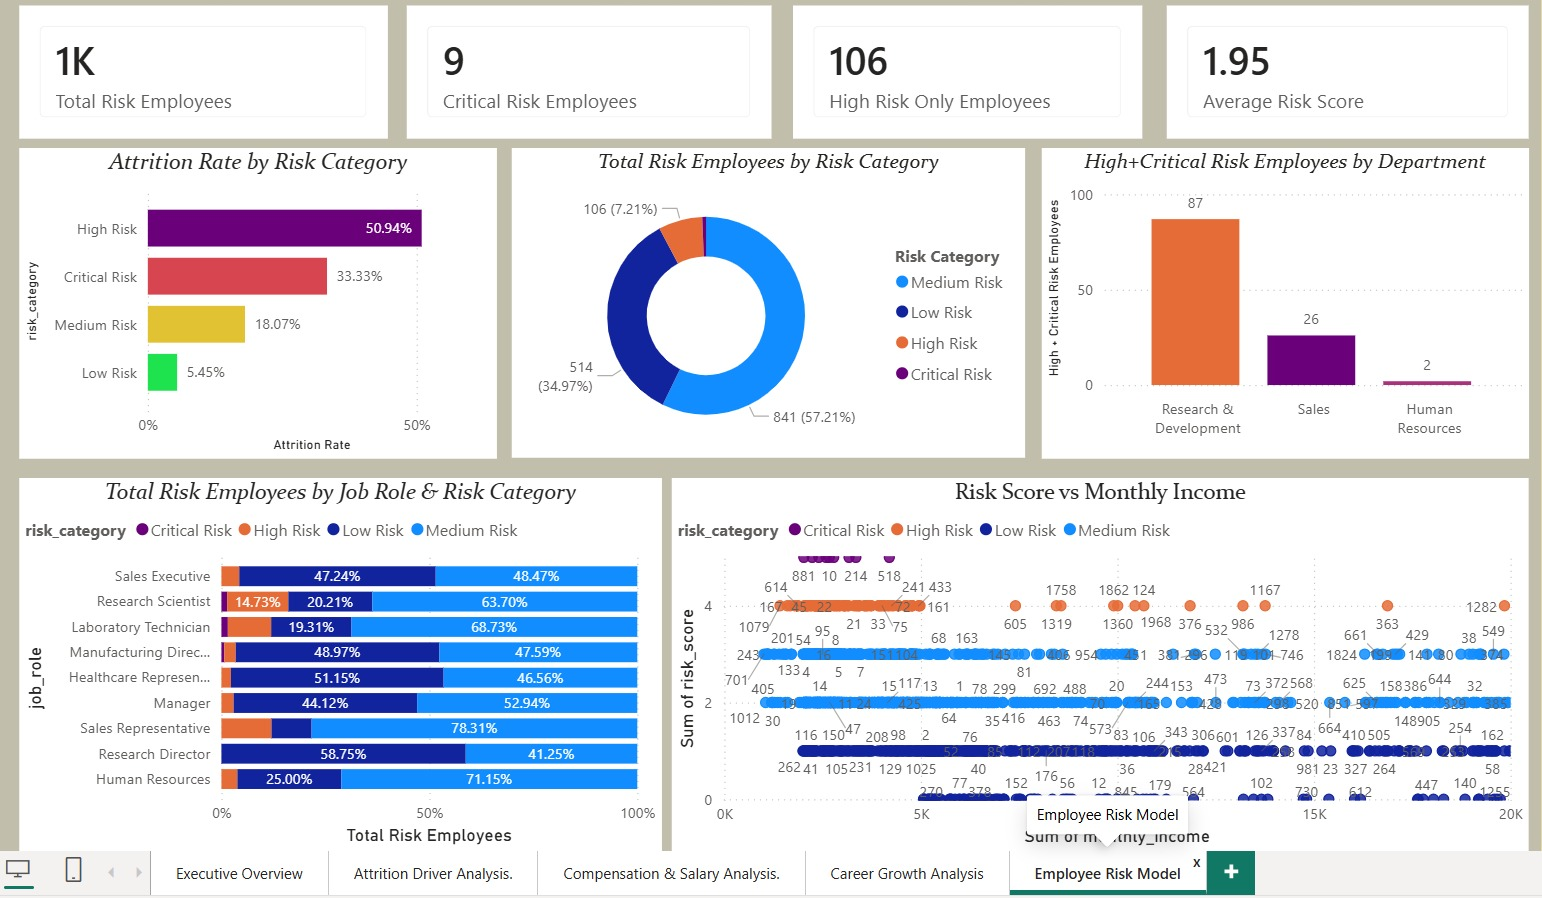

This screenshot's page, from the dashboard's own definition file:
{"tool":"powerbi","page":{"name":"Employee Risk Model","canvas":[1280,720],"ordinal":4},"visuals":[{"type":"cardVisual","fields":{"Data":["public employee_attrition_risk.Total Risk Employees"]},"box":[17.4,18.6,305.8,110.5],"z":0},{"type":"cardVisual","fields":{"Data":["public employee_attrition_risk.Critical Risk Employees"]},"box":[338.4,18.6,302.3,110.5],"z":1000},{"type":"cardVisual","fields":{"Data":["public employee_attrition_risk.High Risk Only Employees"]},"box":[659.3,18.6,289.5,110.5],"z":2000},{"type":"cardVisual","fields":{"Data":["public employee_attrition_risk.Average Risk Score"]},"box":[968.6,18.6,300,110.5],"z":3000},{"type":"clusteredBarChart","title":"Attrition Rate by Risk Category","fields":{"Category":["public employee_attrition_risk.risk_category"],"Y":["public employees.Attrition Rate"]},"box":[17.9,136.6,396.3,257.5],"z":4000},{"type":"donutChart","title":"Total Risk Employees by Risk Category","fields":{"Category":["public employee_attrition_risk.risk_category"],"Y":["public employee_attrition_risk.Total Risk Employees"]},"box":[425.6,137.2,425.6,257],"z":5000},{"type":"clusteredColumnChart","title":"High+Critical Risk Employees by Department","fields":{"Category":["public employee_attrition_risk.department"],"Y":["public employee_attrition_risk.High + Critical Risk Employees"]},"box":[865,136.6,403.6,257.5],"z":6000},{"type":"hundredPercentStackedBarChart","title":"Total Risk Employees by Job Role & Risk Category","fields":{"Category":["public employee_attrition_risk.job_role"],"Y":["public employee_attrition_risk.Total Risk Employees"],"Series":["public employee_attrition_risk.risk_category"]},"box":[17.4,410.5,532.6,309.3],"z":7000},{"type":"scatterChart","title":"Risk Score vs Monthly Income","fields":{"X":["Sum(public employee_attrition_risk.monthly_income)"],"Y":["Sum(public employee_attrition_risk.risk_score)"],"Series":["public employee_attrition_risk.risk_category"],"Category":["public employee_attrition_risk.employee_number"]},"box":[558.1,409.9,710.5,310.1],"z":8000}]}

Visuals, with their boxes on the page's 1280x720 design canvas (x1, y1, x2, y2). These are canvas units, not pixel positions in the 1542x898 screenshot, which may show the page scaled, cropped or inside an application window:
cardVisual - public employee_attrition_risk.Total Risk Employees: select_region(17, 19, 323, 129)
cardVisual - public employee_attrition_risk.Critical Risk Employees: select_region(338, 19, 641, 129)
cardVisual - public employee_attrition_risk.High Risk Only Employees: select_region(659, 19, 949, 129)
cardVisual - public employee_attrition_risk.Average Risk Score: select_region(969, 19, 1269, 129)
"Attrition Rate by Risk Category" clusteredBarChart: select_region(18, 137, 414, 394)
"Total Risk Employees by Risk Category" donutChart: select_region(426, 137, 851, 394)
"High+Critical Risk Employees by Department" clusteredColumnChart: select_region(865, 137, 1269, 394)
"Total Risk Employees by Job Role & Risk Category" hundredPercentStackedBarChart: select_region(17, 410, 550, 720)
"Risk Score vs Monthly Income" scatterChart: select_region(558, 410, 1269, 720)
